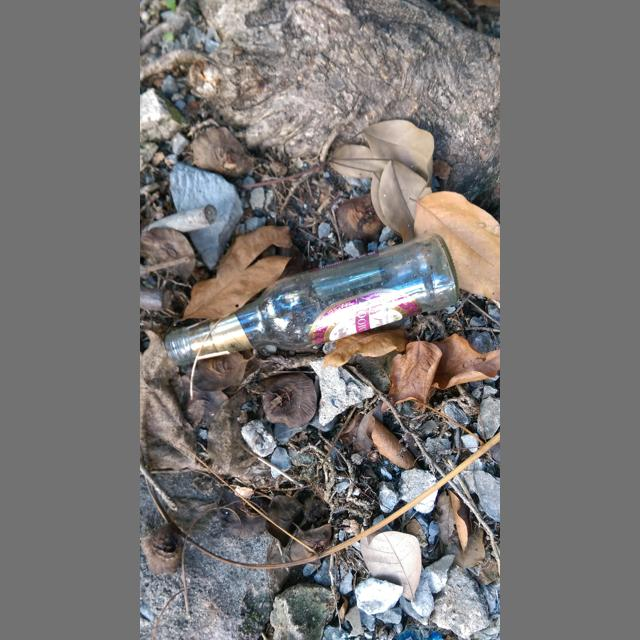litter: (165, 232, 460, 365)
